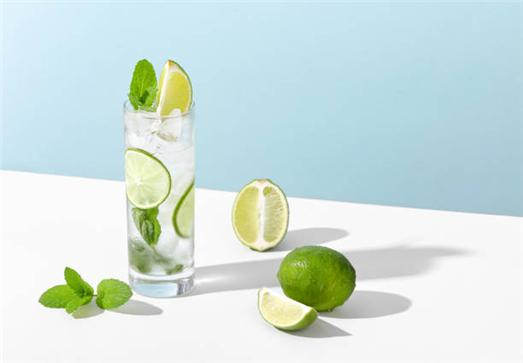alcohol: (122, 97, 196, 295)
